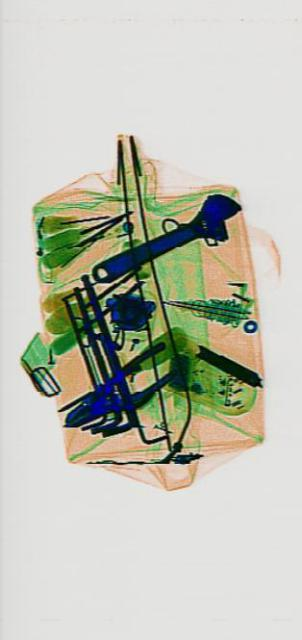Pliers: (61, 331, 173, 447)
Wrench: (88, 178, 242, 304)
